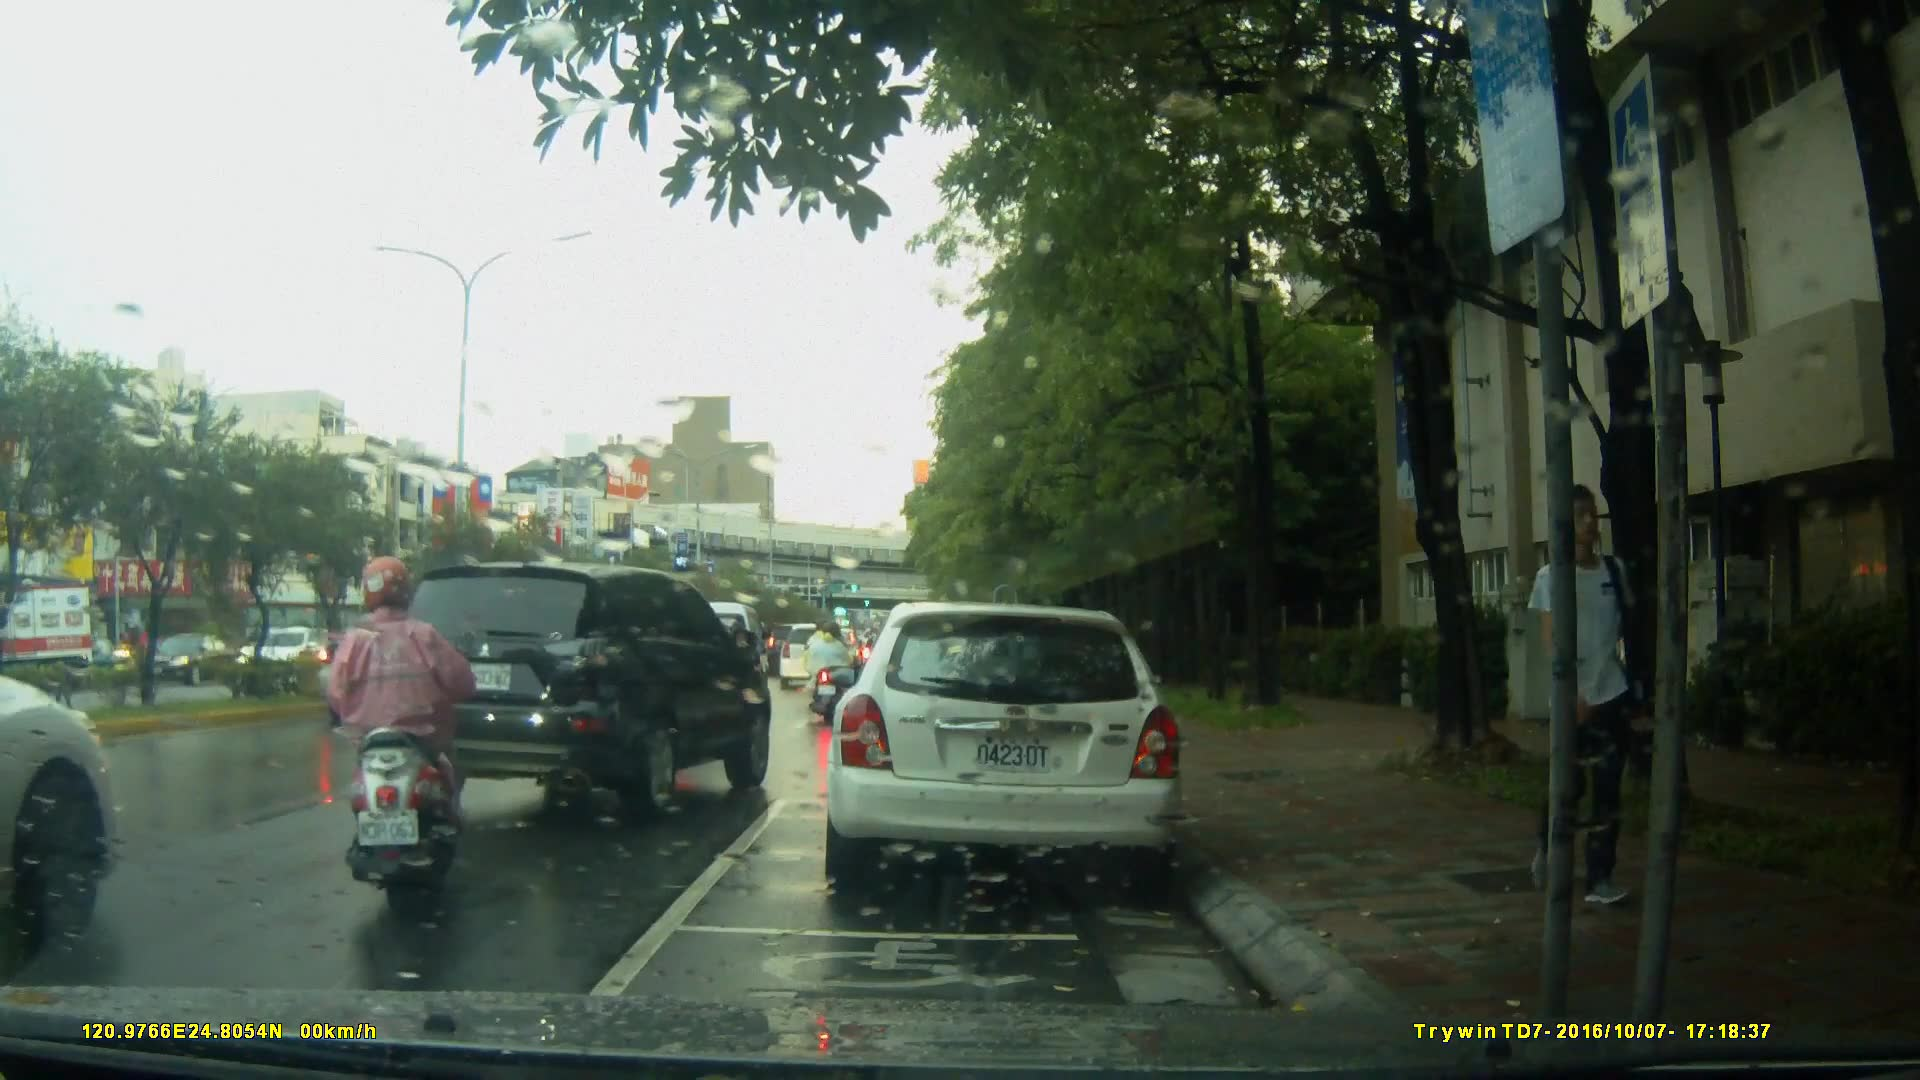pedestrian: (1506, 478, 1651, 925)
rider: (314, 553, 478, 916), (805, 621, 862, 725), (815, 626, 857, 698)
vehicle: (820, 602, 1188, 898), (388, 561, 779, 819), (134, 631, 240, 686), (778, 622, 850, 693)
